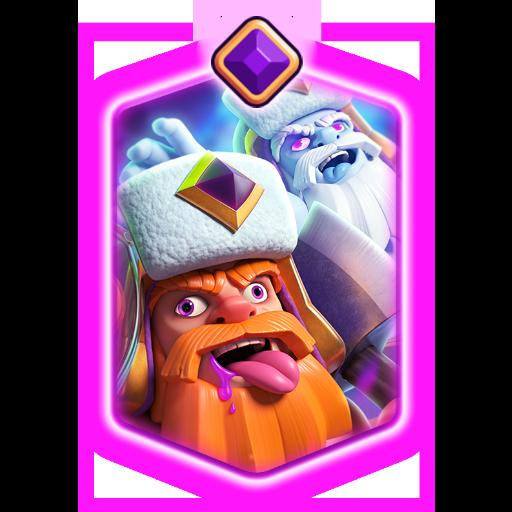lumberjack-evo: (111, 98, 401, 438)
